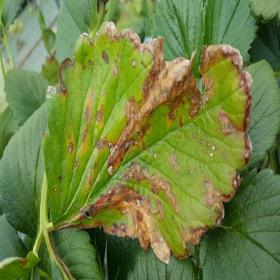Angular Leafspot: (40, 19, 255, 267)
